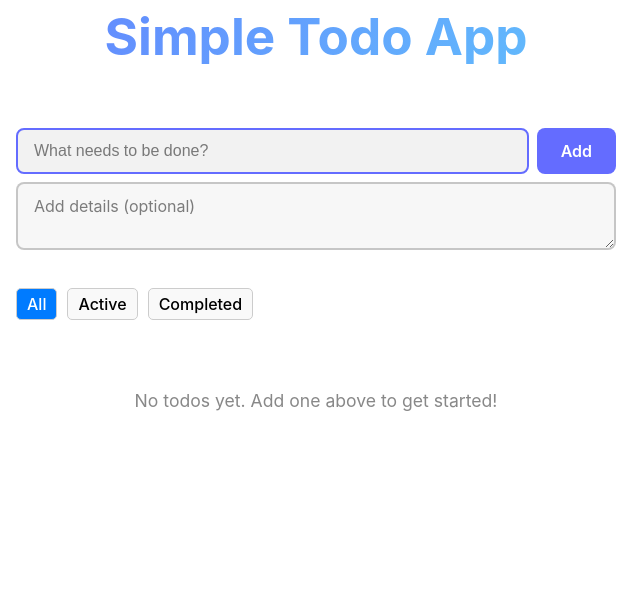
Test: App › adds multiple todos and displays them in order (newest first)
Type "First todo" into the field with placeholder "What needs to be done?" at (272, 151), box top-left (16, 128), bottom-right (529, 174)
Then press Enter
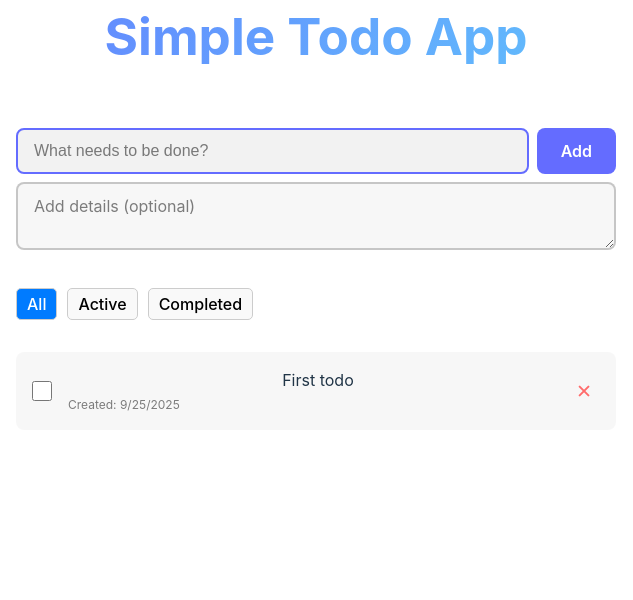
Type "Second todo" into the field with placeholder "What needs to be done?" at (272, 151), box top-left (16, 128), bottom-right (529, 174)
Then press Enter
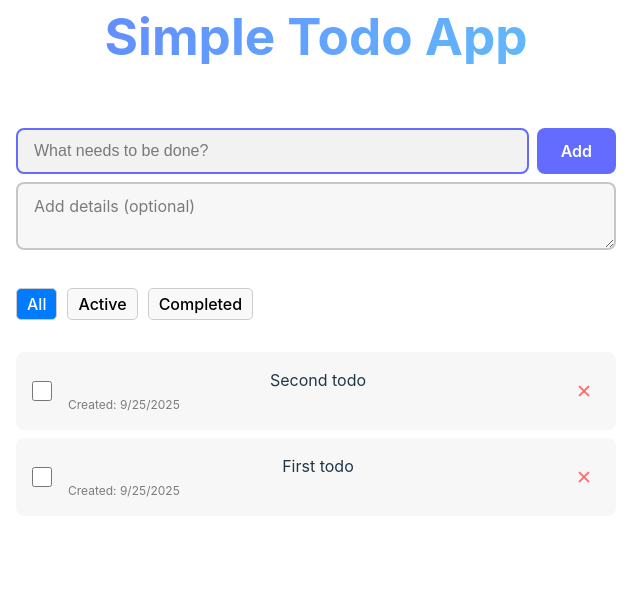
Type "Third todo" into the field with placeholder "What needs to be done?" at (272, 151), box top-left (16, 128), bottom-right (529, 174)
Then press Enter
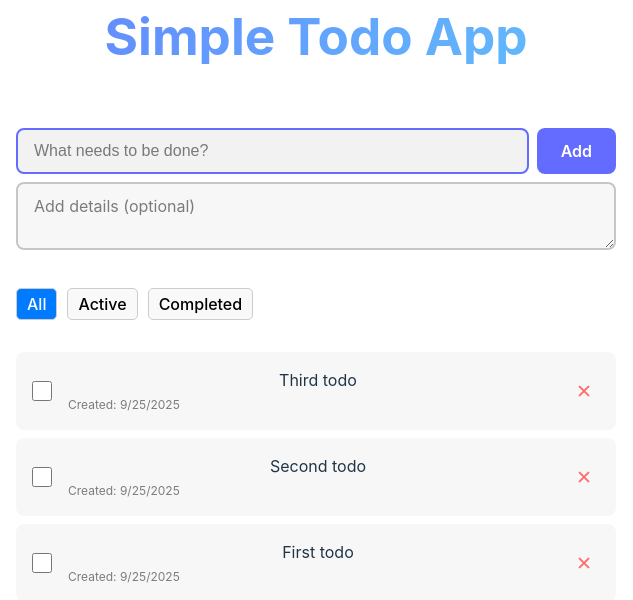
Expected: the text "Second todo" is shown, top-left (270, 456), bottom-right (366, 476)
Expected: the text "First todo" is shown, top-left (282, 542), bottom-right (354, 562)
Expected: the text "Third todo" is shown, top-left (279, 370), bottom-right (357, 390)
